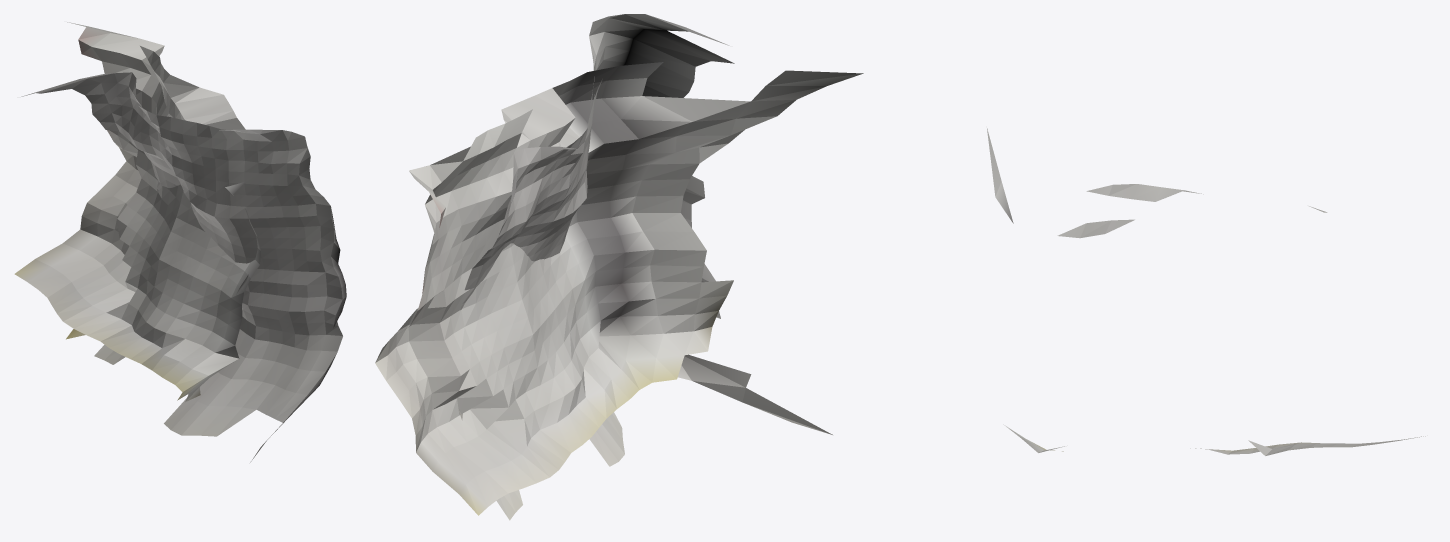
File: entity-sign-16.glb
3 renders of one model, left to right at view 1: azimuth 30°, elevation 25°; view 2: azimuth 150°, elevation 25°; view 3: azimuth 270°, elevation 25°, orthographic. The views are drawn at different scales.
Parts seen in each view (by area): view 1: geometry_0; view 2: geometry_0; view 3: geometry_0.
Part boxes in pixels (<box>): geometry_0: <box>14,22,346,462</box>; geometry_0: <box>375,14,863,520</box>; geometry_0: <box>987,128,1425,455</box>.
Size of the model in its own units: 0.1868 by 0.2383 by 0.2628.
